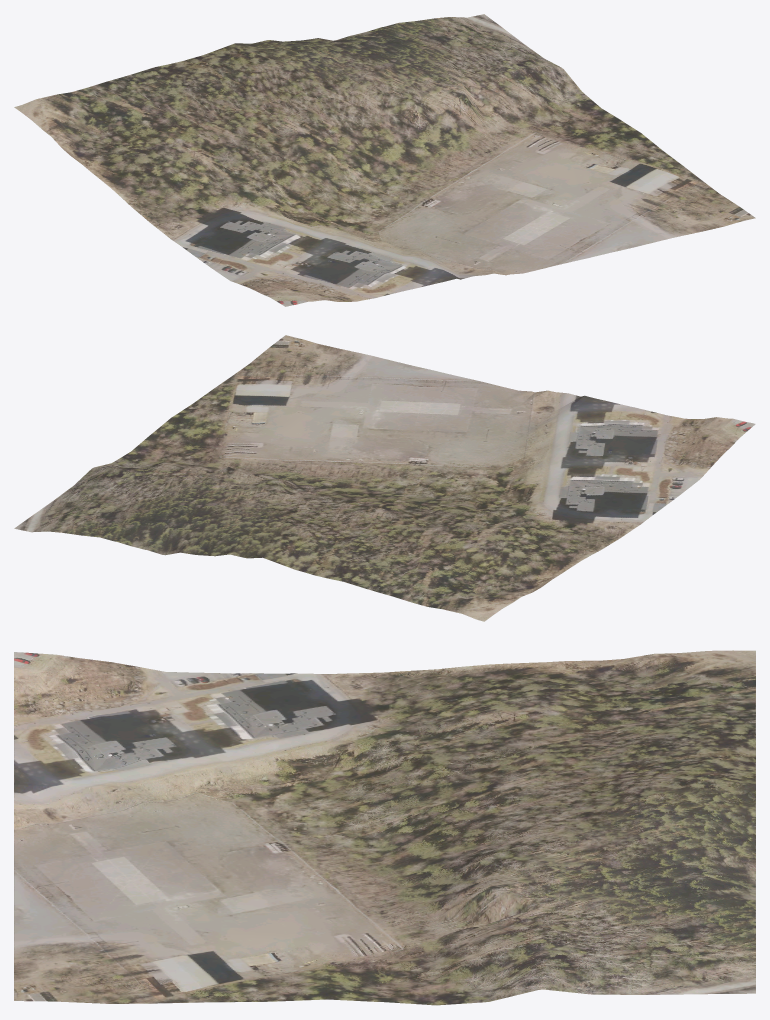
The model's file is CM_Terrain_24492711_6815903.fbx.
3 views of the same model, one above another, from view 1: azimuth 30°, elevation 25°; view 2: azimuth 150°, elevation 25°; view 3: azimuth 270°, elevation 25° (orthographic). The views are drawn at different scales.
Parts seen in each view (by area): view 1: CM_Terrain_24492711_6815903_LOD0; view 2: CM_Terrain_24492711_6815903_LOD0; view 3: CM_Terrain_24492711_6815903_LOD0.
Boxes of the visible parts, x1,y1,x2,y2 form: CM_Terrain_24492711_6815903_LOD0: (14, 14, 755, 306); CM_Terrain_24492711_6815903_LOD0: (14, 335, 755, 621); CM_Terrain_24492711_6815903_LOD0: (14, 650, 755, 1005).
Size of what is drawn, in the model's own units: 205 by 18.37 by 205.
